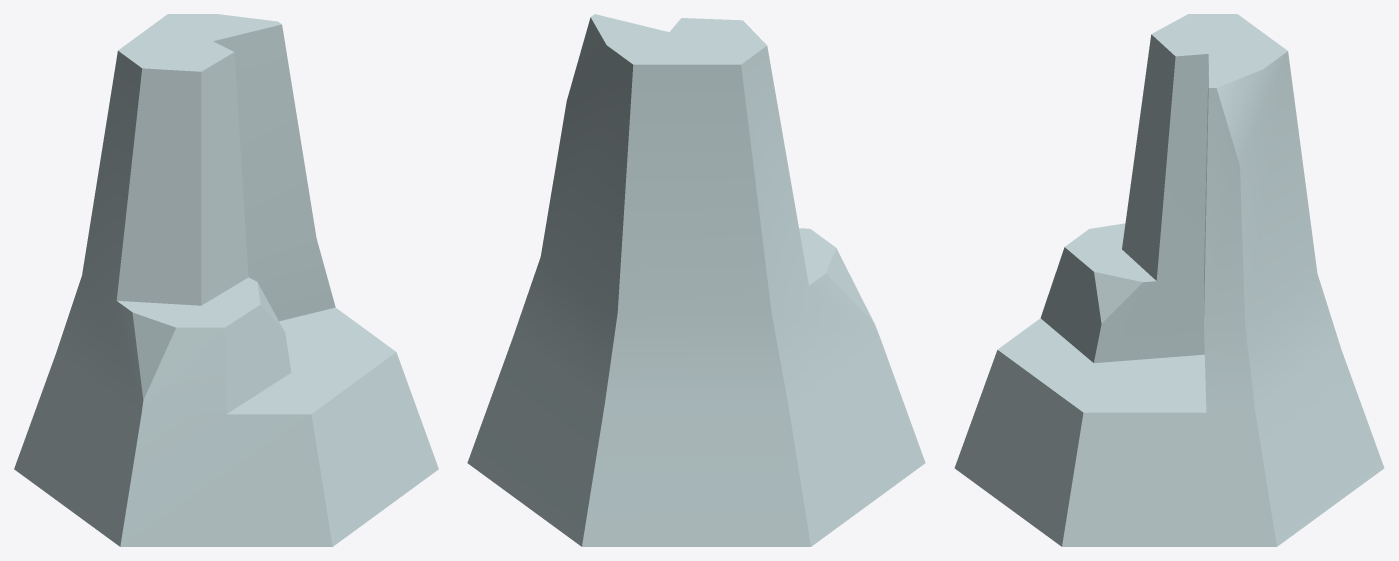
Rendered from stone_tall8.glb.
3 renders of one model, left to right at view 1: azimuth 30°, elevation 25°; view 2: azimuth 150°, elevation 25°; view 3: azimuth 270°, elevation 25°, orthographic. The views are drawn at different scales.
Parts seen in each view (by area): view 1: stone_tall8; view 2: stone_tall8; view 3: stone_tall8.
Part boxes in pixels (left/top/right/bottom): stone_tall8: left=14, top=14, right=438, bottom=546; stone_tall8: left=467, top=14, right=925, bottom=546; stone_tall8: left=954, top=14, right=1384, bottom=546.
Bounding box in the file's own units: 0.5749 × 0.7108 × 0.6639.
